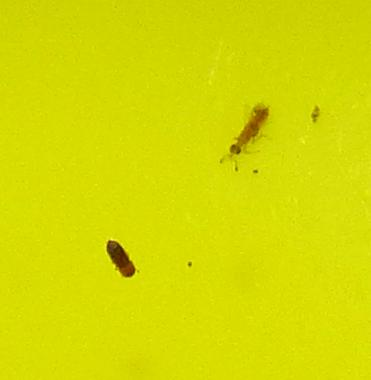Brachycera: (225, 100, 271, 158)
Coleoptera: (100, 235, 140, 280)
